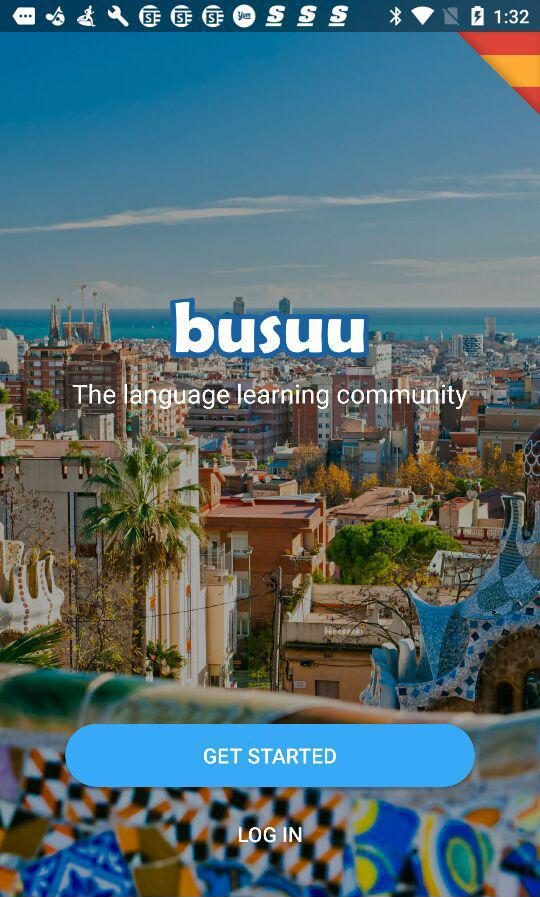BackgroundImage: (1, 33, 539, 897)
Image: (169, 297, 370, 359)
Text: (72, 384, 468, 410), (238, 826, 304, 844)
TextButton: (66, 723, 476, 788)
UpperTaskBar: (1, 1, 540, 33)
